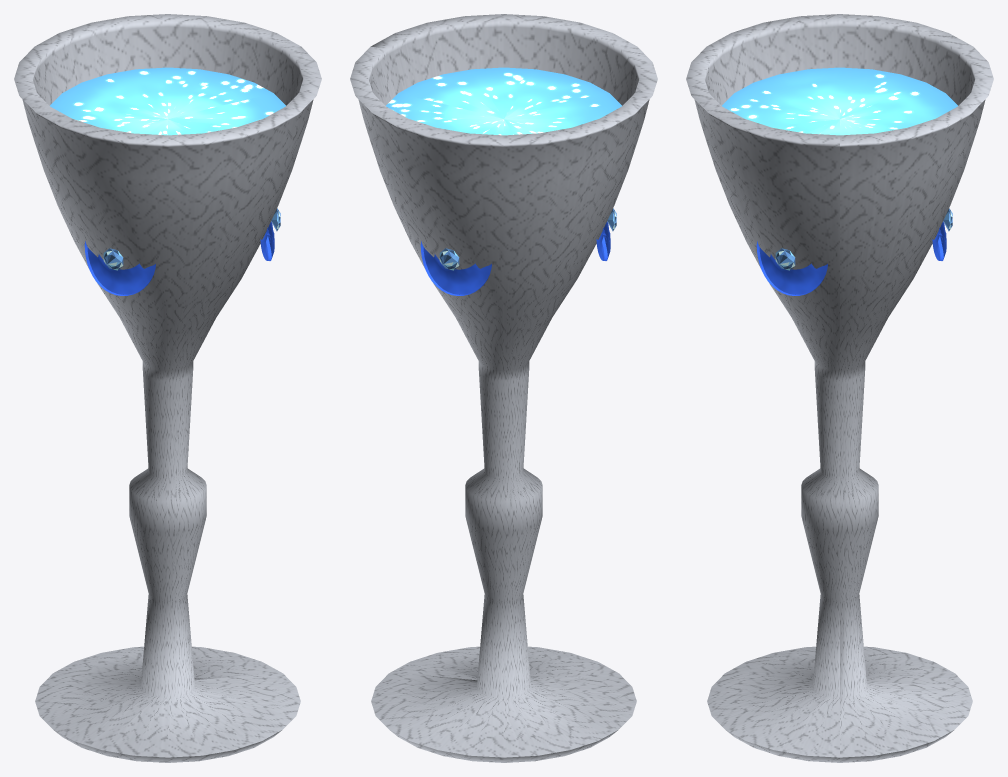
Rendered from MoonlitGoblet.glb.
The picture shows the model from 3 angles, left to right: view 1: azimuth 30°, elevation 25°; view 2: azimuth 150°, elevation 25°; view 3: azimuth 270°, elevation 25°; orthographic projection.
Visible parts, largest first — view 1: MoonlitGoblet; view 2: MoonlitGoblet; view 3: MoonlitGoblet.
Part boxes in pixels (left/top/right/bottom): MoonlitGoblet: left=14, top=14, right=321, bottom=762; MoonlitGoblet: left=350, top=14, right=657, bottom=762; MoonlitGoblet: left=686, top=14, right=993, bottom=762.
Size of the model in its own units: 0.556 by 1.26 by 0.556.
1 material, 1 textured.
